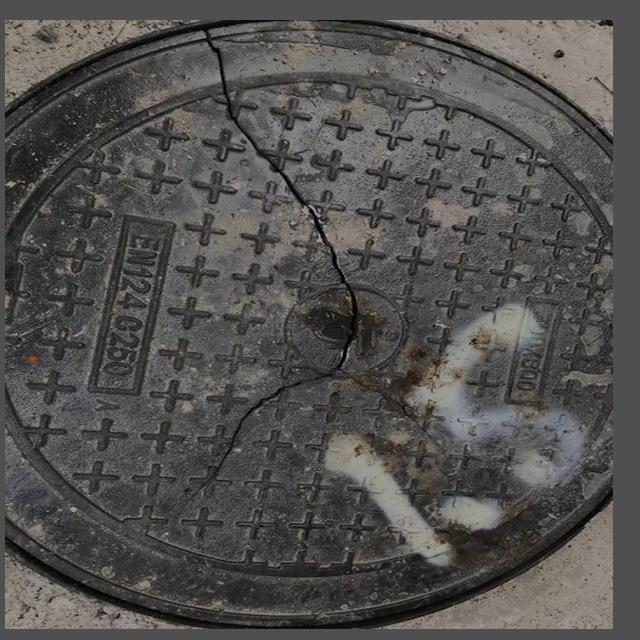broke: (12, 24, 602, 626)
